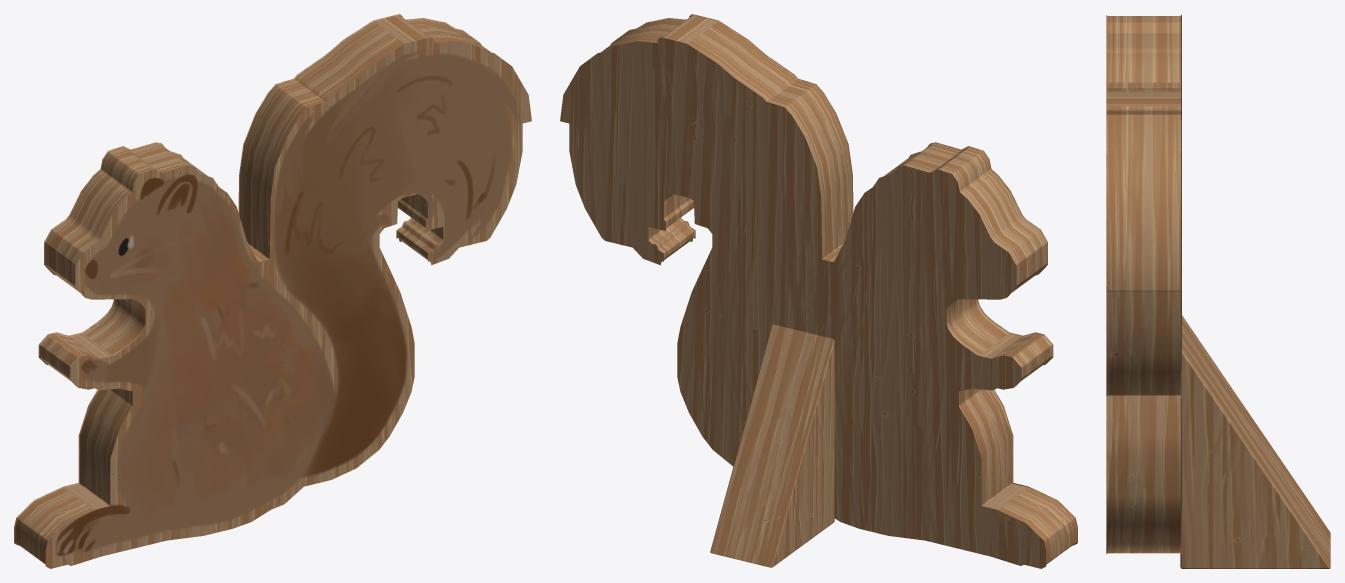
File: squirrel_frame_1.glb
3 renders of one model, left to right at view 1: azimuth 30°, elevation 25°; view 2: azimuth 150°, elevation 25°; view 3: azimuth 270°, elevation 25°, orthographic. The views are drawn at different scales.
Visible parts, largest first — view 1: squirrel_frame_1_Block; view 2: squirrel_frame_1_Block, squirrel_frame_1_RearBrace; view 3: squirrel_frame_1_Block, squirrel_frame_1_RearBrace.
Boxes of the visible parts, <box> form: squirrel_frame_1_Block: <box>14,14,531,568</box>; squirrel_frame_1_Block: <box>560,14,1077,568</box>; squirrel_frame_1_RearBrace: <box>710,324,834,567</box>; squirrel_frame_1_Block: <box>1106,14,1181,554</box>; squirrel_frame_1_RearBrace: <box>1180,315,1330,568</box>.
Size of the model in its own units: 1.42 by 1.24 by 0.4752.
1 material, 1 textured.
